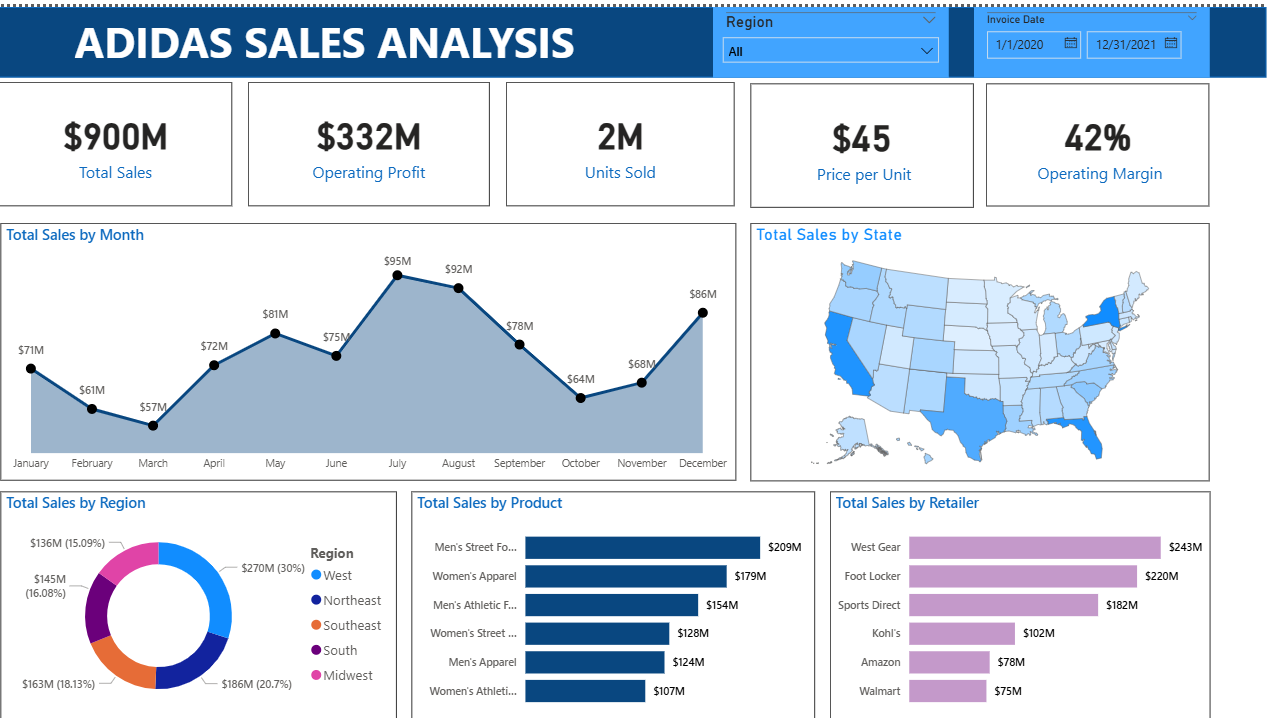

The dashboard page shown, as its layout file describes it:
{"tool":"powerbi","page":{"name":"Page 1","canvas":[1280,720],"ordinal":0},"visuals":[{"type":"shape","box":[0,0,1279.5,71.2],"z":0},{"type":"textbox","box":[70.6,0,532.4,70.6],"z":1000},{"type":"card","fields":{"Values":["Sum(Data Sales Adidas.Operating Profit)"]},"box":[251.5,75,244.1,125],"z":2000},{"type":"card","fields":{"Values":["Sum(Data Sales Adidas.Total Sales)"]},"box":[0,75,235.3,125],"z":3000},{"type":"card","fields":{"Values":["Sum(Data Sales Adidas.Units Sold)"]},"box":[511.8,75,230.9,125],"z":4000},{"type":"card","fields":{"Values":["Avg(Data Sales Adidas.Price per Unit)"]},"box":[758.8,76.5,225,125],"z":5000},{"type":"card","fields":{"Values":["Avg(Data Sales Adidas.Operating Margin)"]},"box":[996.3,77.2,225.6,124.2],"z":6000},{"type":"areaChart","title":" Total Sales by Month","fields":{"Category":["Data Sales Adidas.Invoice Date.Variation.Date Hierarchy.Month"],"Y":["Sum(Data Sales Adidas.Total Sales)"]},"box":[1.5,217.6,742.6,260.3],"z":7000},{"type":"donutChart","title":"Total Sales by Region","fields":{"Category":["Data Sales Adidas.Region"],"Y":["Sum(Data Sales Adidas.Total Sales)"]},"box":[1.5,489.7,400,230.9],"z":8000},{"type":"barChart","title":"Total Sales by Product","fields":{"Category":["Data Sales Adidas.Product"],"Y":["Sum(Data Sales Adidas.Total Sales)"]},"box":[416.2,489.7,407.4,230.9],"z":9000},{"type":"barChart","title":"Total Sales by Retailer","fields":{"Y":["Sum(Data Sales Adidas.Total Sales)"],"Category":["Data Sales Adidas.Retailer"]},"box":[838.2,489.7,383.8,230.9],"z":10000},{"type":"slicer","fields":{"Values":["Data Sales Adidas.Region"]},"box":[720.8,0,237.7,71.2],"z":11000},{"type":"slicer","fields":{"Values":["Data Sales Adidas.Invoice Date"]},"box":[984.2,0,237.7,71.2],"z":12000},{"type":"shapeMap","title":"Total Sales by State","fields":{"Category":["Data Sales Adidas.State"],"Value":["Sum(Data Sales Adidas.Total Sales)"]},"box":[758.6,218,463.3,260.4],"z":12001}]}

Visuals, with their boxes in screenshot pixels (x1, y1, x2, y2), scaled from the page's 1280x720 canvas onto the 1267x718 screenshot:
shape: locate(0, 0, 1266, 71)
textbox: locate(70, 0, 597, 70)
card - Sum(Data Sales Adidas.Operating Profit): locate(249, 75, 491, 199)
card - Sum(Data Sales Adidas.Total Sales): locate(0, 75, 233, 199)
card - Sum(Data Sales Adidas.Units Sold): locate(507, 75, 735, 199)
card - Avg(Data Sales Adidas.Price per Unit): locate(751, 76, 974, 201)
card - Avg(Data Sales Adidas.Operating Margin): locate(986, 77, 1209, 201)
" Total Sales by Month" areaChart: locate(1, 217, 737, 477)
"Total Sales by Region" donutChart: locate(1, 488, 397, 717)
"Total Sales by Product" barChart: locate(412, 488, 815, 717)
"Total Sales by Retailer" barChart: locate(830, 488, 1210, 717)
slicer - Data Sales Adidas.Region: locate(713, 0, 949, 71)
slicer - Data Sales Adidas.Invoice Date: locate(974, 0, 1209, 71)
"Total Sales by State" shapeMap: locate(751, 217, 1209, 477)
